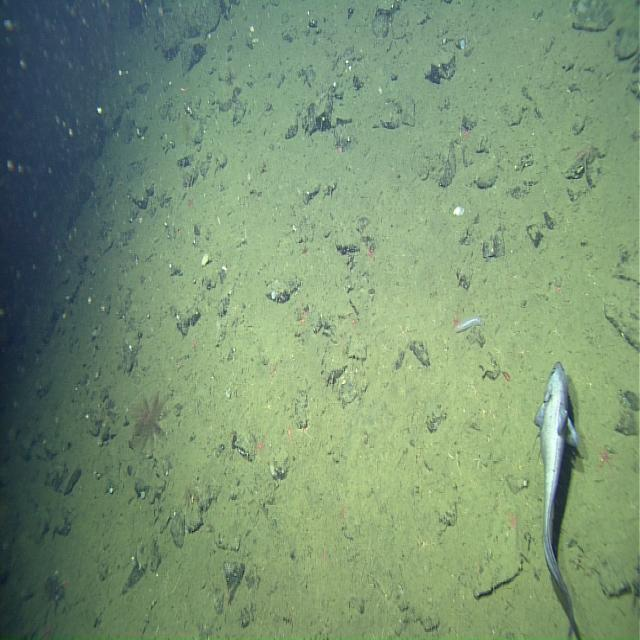Brittle Star: (589, 435, 619, 479), (317, 536, 333, 572)
